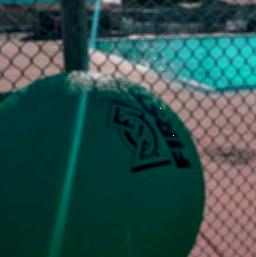algae: (0, 66, 210, 257)
